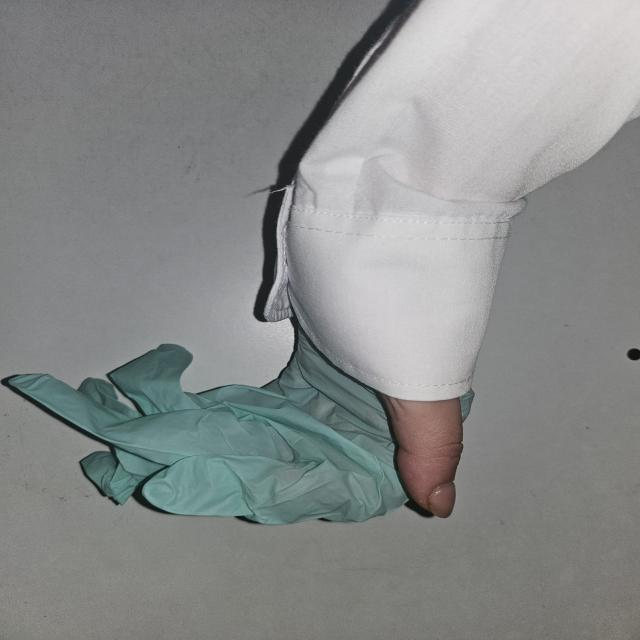glove_partial: (0, 319, 478, 532)
